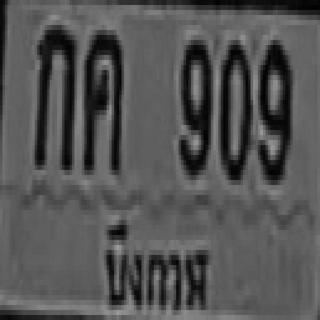A01: (32, 20, 74, 165)
A04: (82, 25, 122, 170)
N00: (220, 35, 249, 175)
N09: (255, 35, 290, 180), (177, 38, 210, 172)
P05: (98, 212, 211, 316)
